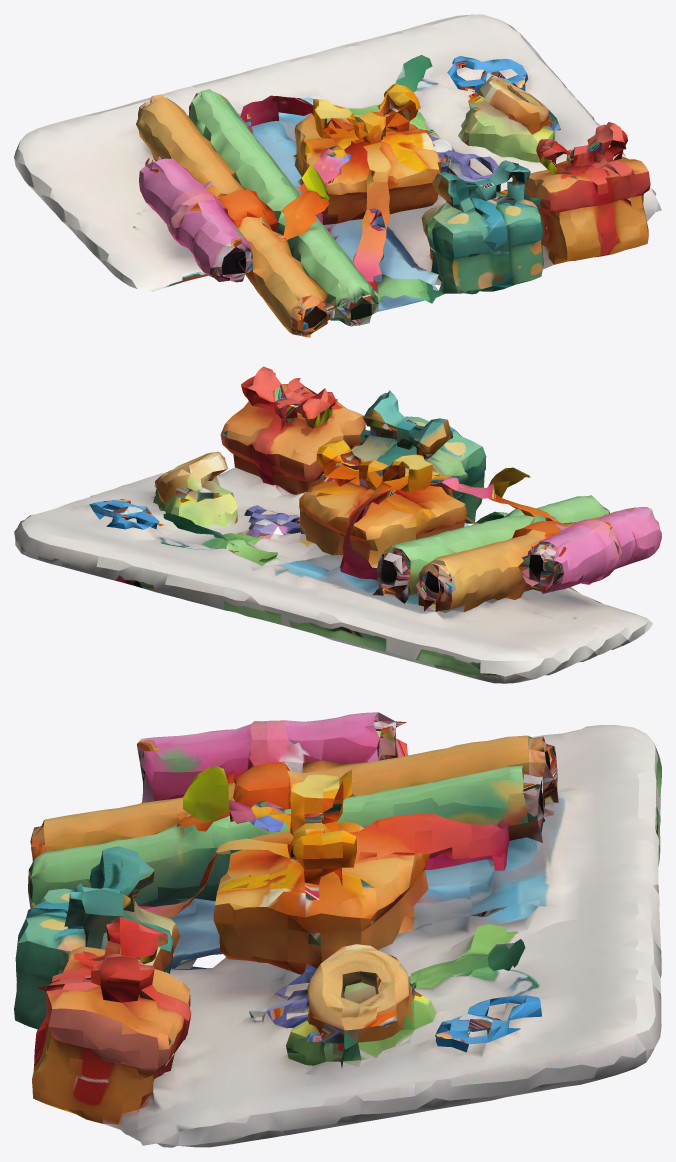
Rendered from xsw_wrap.glb.
The picture shows the model from 3 angles, top to bottom: view 1: azimuth 30°, elevation 25°; view 2: azimuth 150°, elevation 25°; view 3: azimuth 270°, elevation 25°; orthographic projection. The views are drawn at different scales.
Parts seen in each view (by area): view 1: mesh_q; view 2: mesh_q; view 3: mesh_q.
Boxes of the visible parts, x1,y1,x2,y2 form: mesh_q: [14, 14, 661, 337]; mesh_q: [14, 366, 661, 683]; mesh_q: [14, 712, 661, 1147].
Bounding box in the file's own units: 97.65 × 25.93 × 75.92.
Materials: 1 (1 with a texture image).
